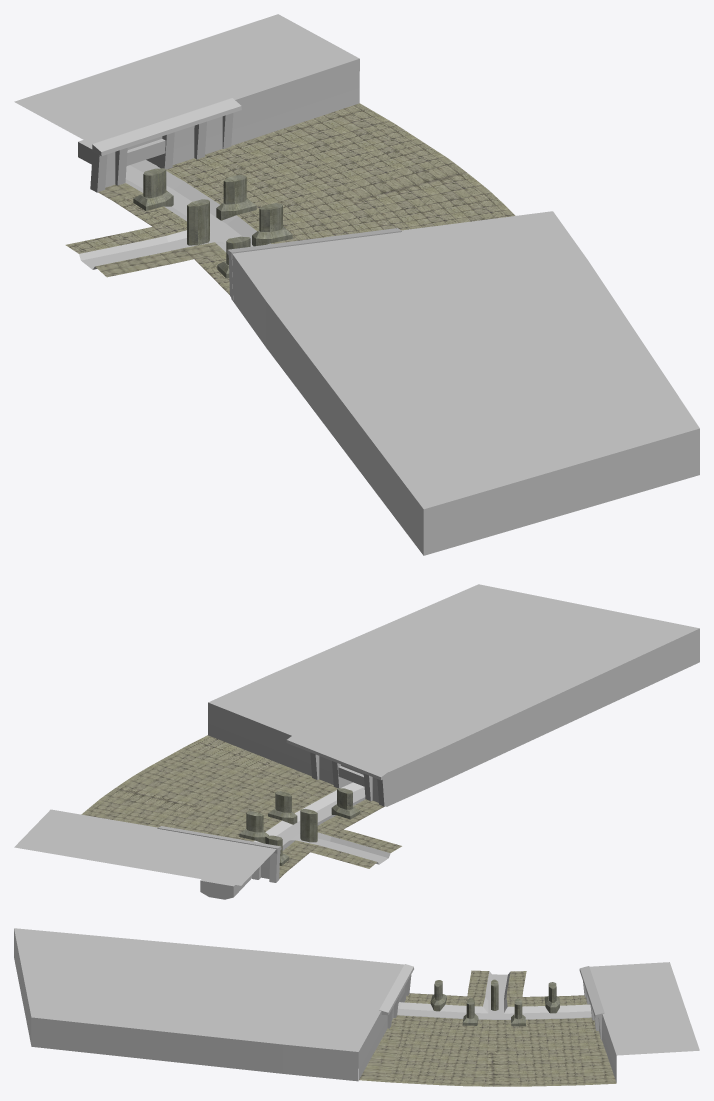
Rendered from SM_Corridor_07_03.fbx.
3 views of the same model, one above another, from view 1: azimuth 30°, elevation 25°; view 2: azimuth 150°, elevation 25°; view 3: azimuth 270°, elevation 25° (orthographic). The views are drawn at different scales.
Parts seen in each view (by area): view 1: SM_Corridor_07_03; view 2: SM_Corridor_07_03; view 3: SM_Corridor_07_03.
Boxes of the visible parts, x1,y1,x2,y2 form: SM_Corridor_07_03: (14, 14, 699, 555); SM_Corridor_07_03: (14, 584, 699, 899); SM_Corridor_07_03: (14, 928, 699, 1086).
Bounding box in the file's own units: 7468 × 879 × 16599.
